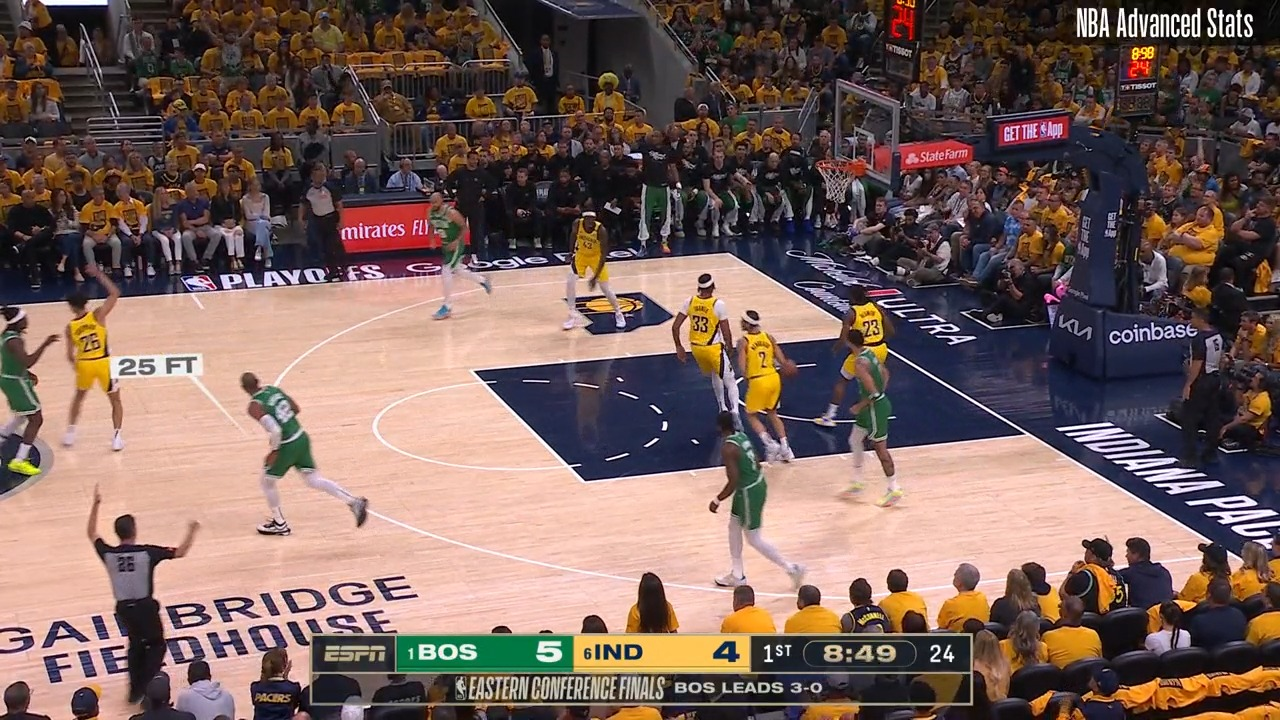basketball: (778, 355, 801, 380)
